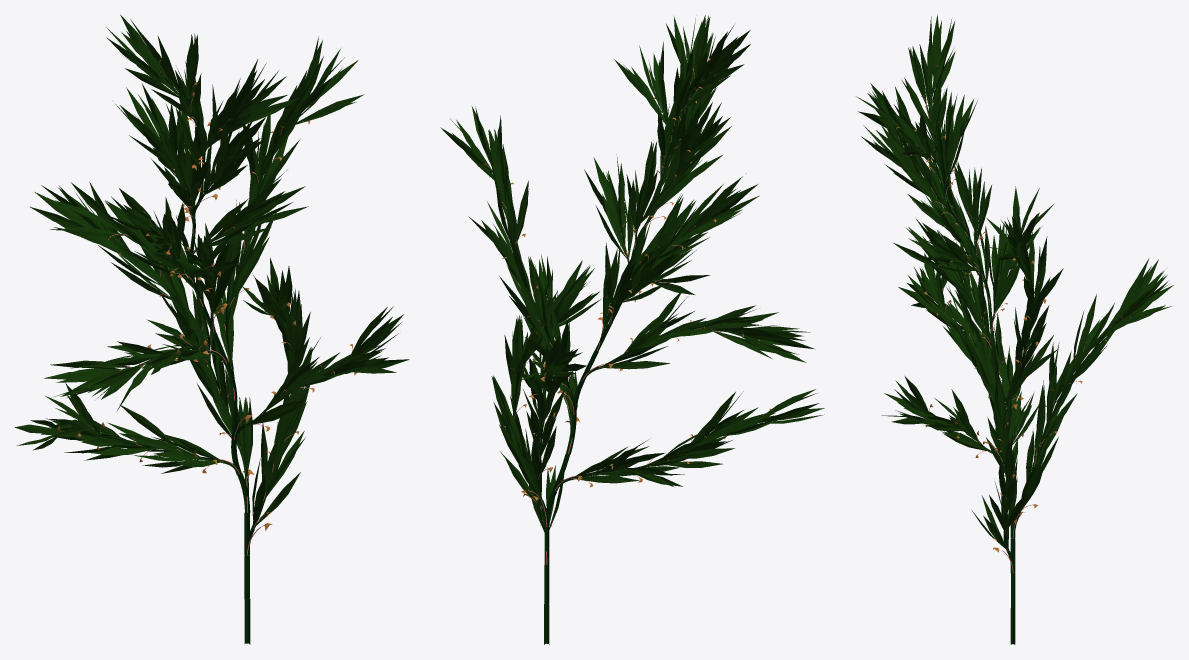
Rendered from plants1.obj.
3 views of the same model, side by side, from view 1: azimuth 30°, elevation 25°; view 2: azimuth 150°, elevation 25°; view 3: azimuth 270°, elevation 25° (orthographic). The views are drawn at different scales.
Parts seen in each view (by area): view 1: 1coral-li; view 2: 1coral-li; view 3: 1coral-li.
Part boxes in pixels (bbox=[...]): 1coral-li: bbox=[14, 14, 409, 644]; 1coral-li: bbox=[440, 15, 824, 644]; 1coral-li: bbox=[856, 14, 1173, 644].
Bounding box in the file's own units: 515 × 904 × 463.
